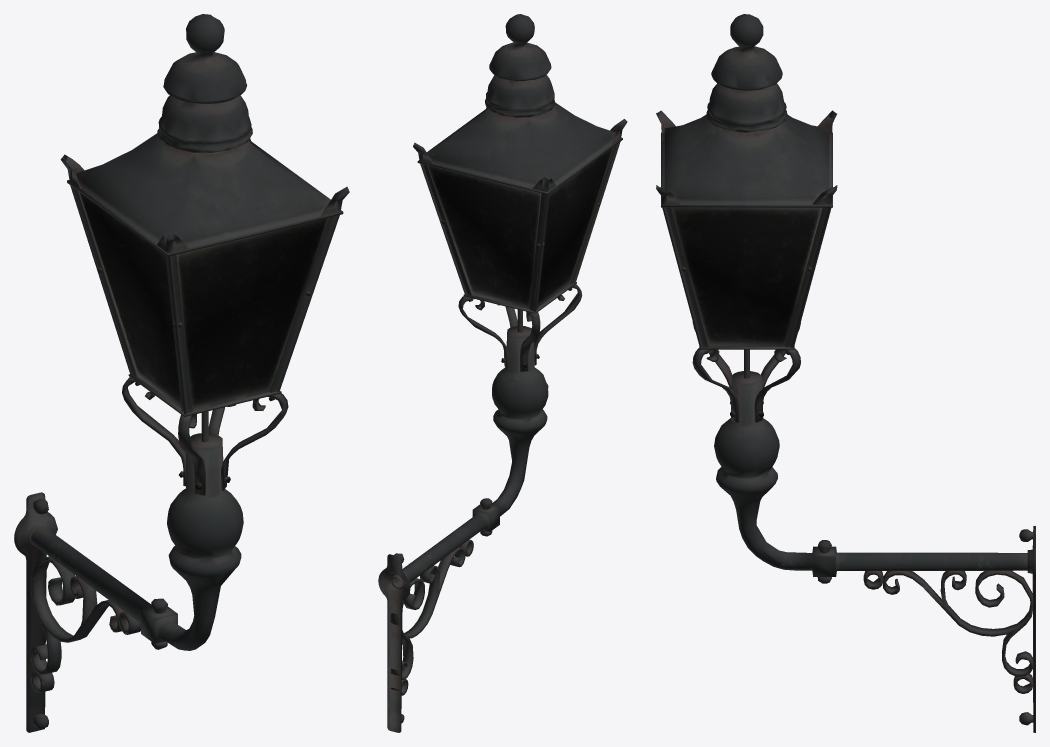
The model's file is street_lamp_02.lite.glb.
3 views of the same model, side by side, from view 1: azimuth 30°, elevation 25°; view 2: azimuth 150°, elevation 25°; view 3: azimuth 270°, elevation 25° (orthographic). The views are drawn at different scales.
Visible parts, largest first — view 1: street_lamp_02; view 2: street_lamp_02; view 3: street_lamp_02.
Boxes of the visible parts, bbox=[...] form: street_lamp_02: bbox=[14, 14, 349, 732]; street_lamp_02: bbox=[378, 14, 627, 732]; street_lamp_02: bbox=[656, 14, 1035, 732].
Bounding box in the file's own units: 0.3849 × 1.67 × 0.8064.
Materials: 2 (2 with a texture image).
